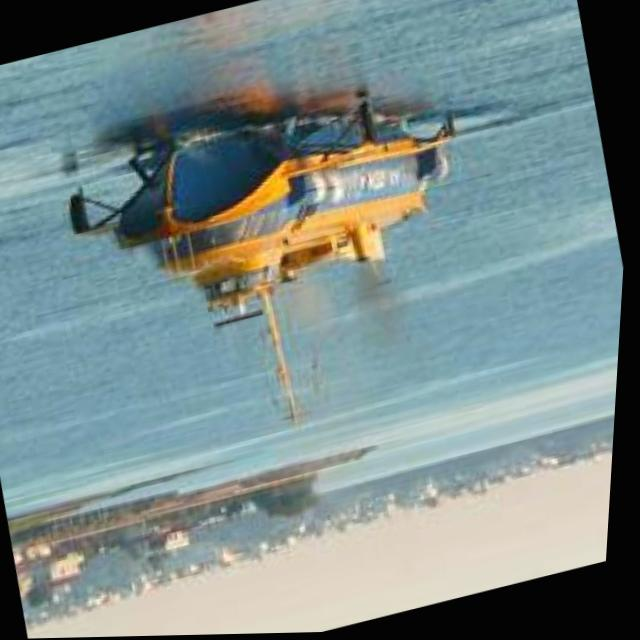ship2: (68, 87, 460, 425)
